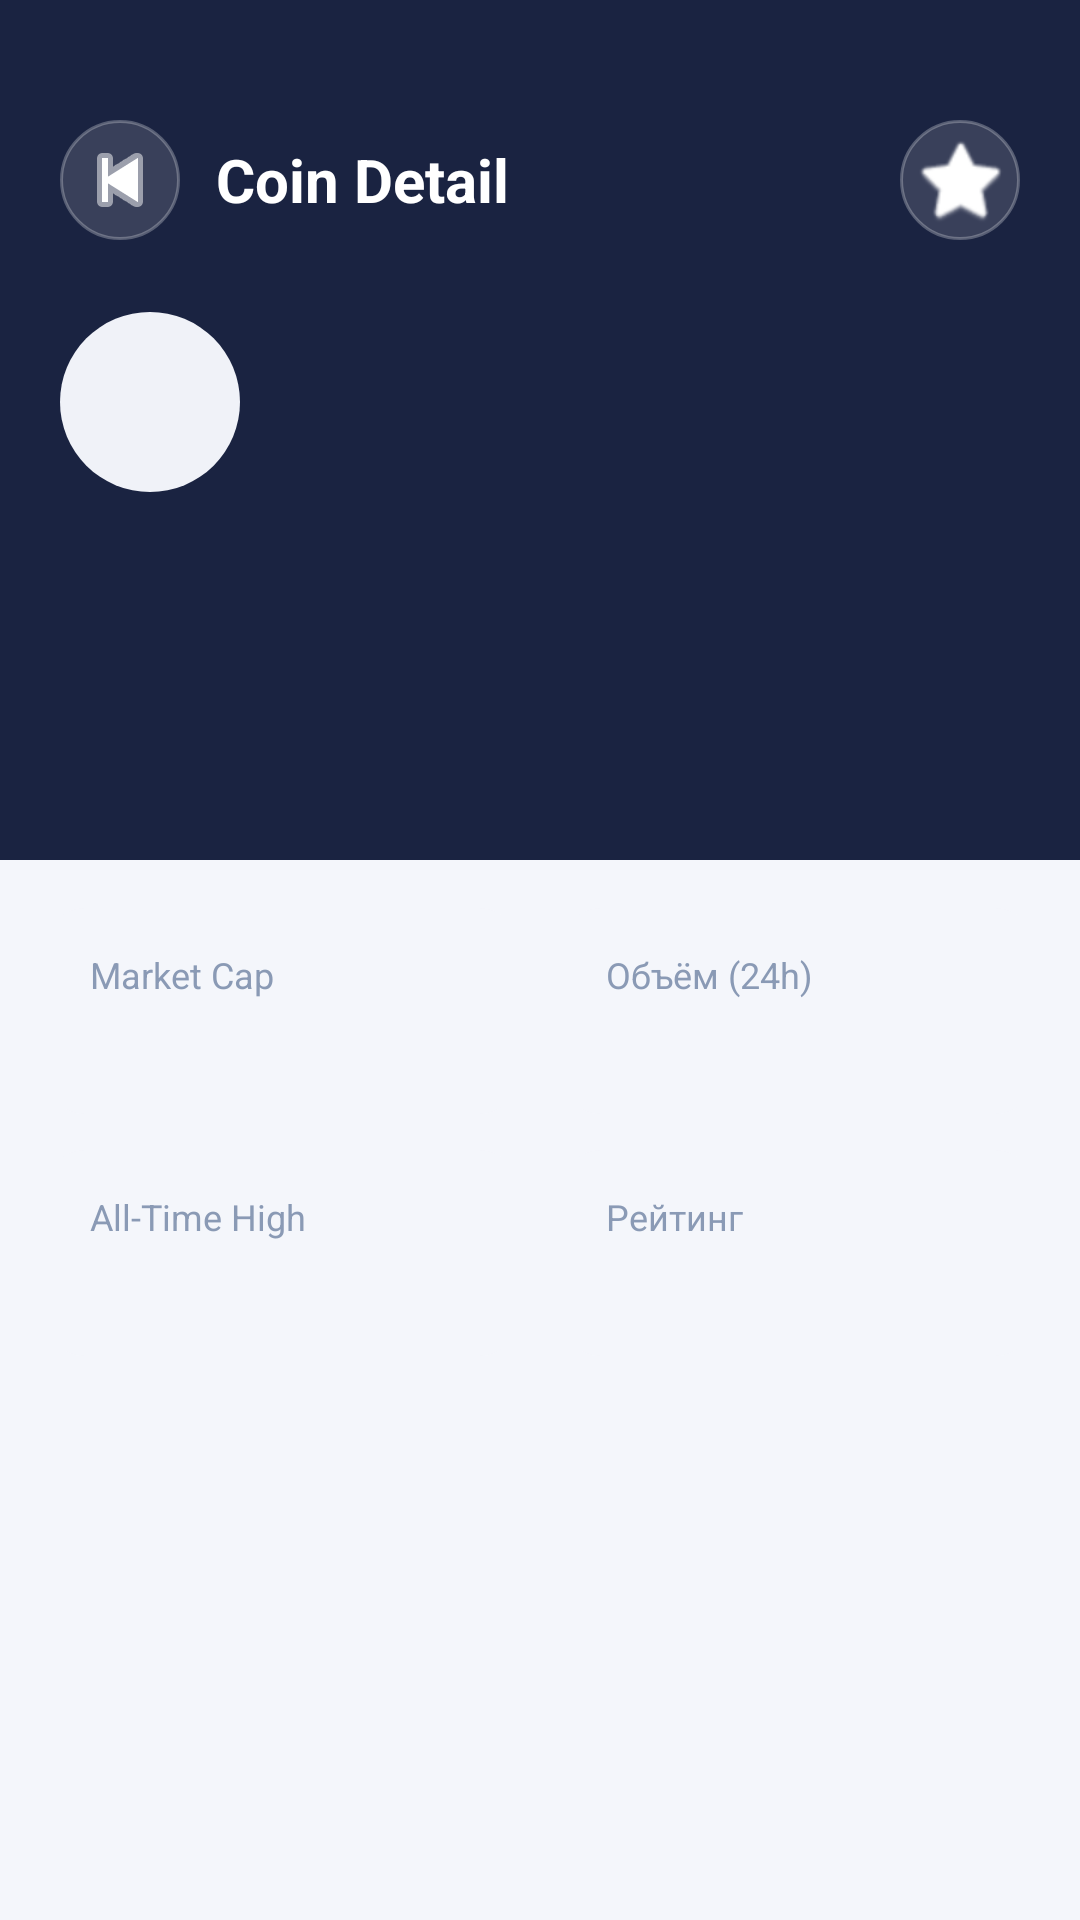

Screen size 1080 x 1920. Icon name, then its box in pixels as [left=x1, top=y1, right=x2, bottom=y2]:
Вишлист: [left=900, top=120, right=1020, bottom=240]
Назад: [left=60, top=120, right=180, bottom=240]
